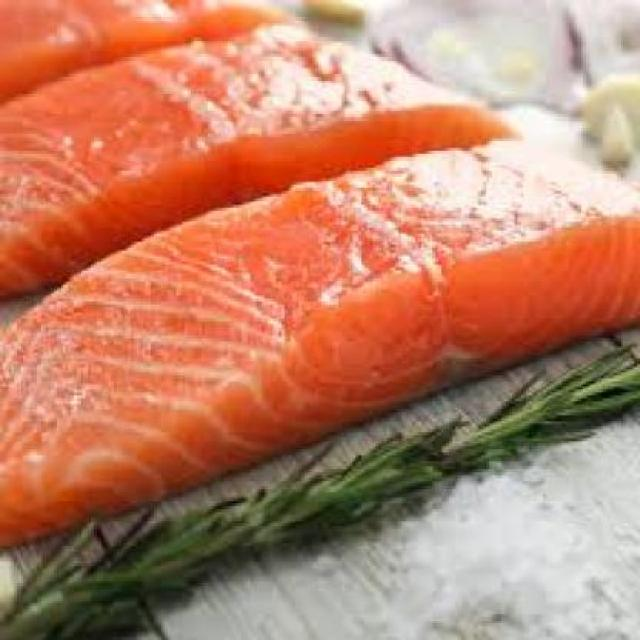salmon: (6, 130, 638, 554), (3, 23, 544, 285), (3, 3, 339, 145)
